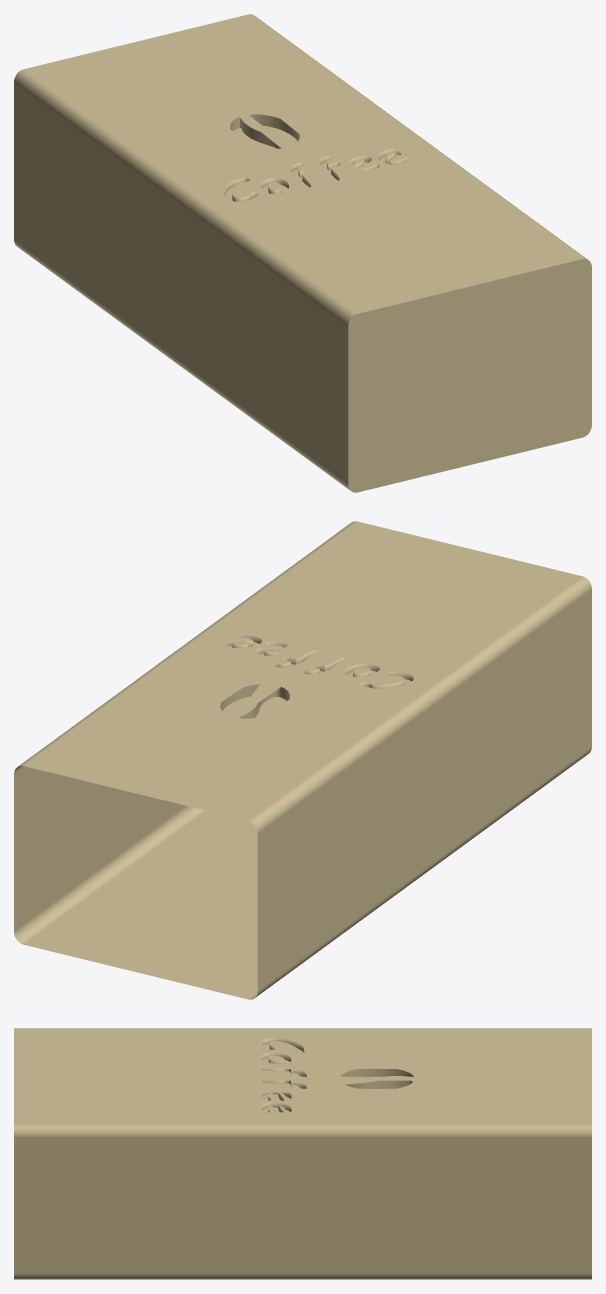
Rendered from Coffee.obj.
3 views of the same model, one above another, from view 1: azimuth 30°, elevation 25°; view 2: azimuth 150°, elevation 25°; view 3: azimuth 270°, elevation 25° (orthographic). The views are drawn at different scales.
Parts seen in each view (by area): view 1: Cube; view 2: Cube; view 3: Cube.
Boxes of the visible parts, box(x1,y1,x2,y2) form: Cube: box(14, 14, 591, 492); Cube: box(14, 521, 591, 999); Cube: box(14, 1028, 591, 1279).
Bounding box in the file's own units: 100 × 70 × 237.
